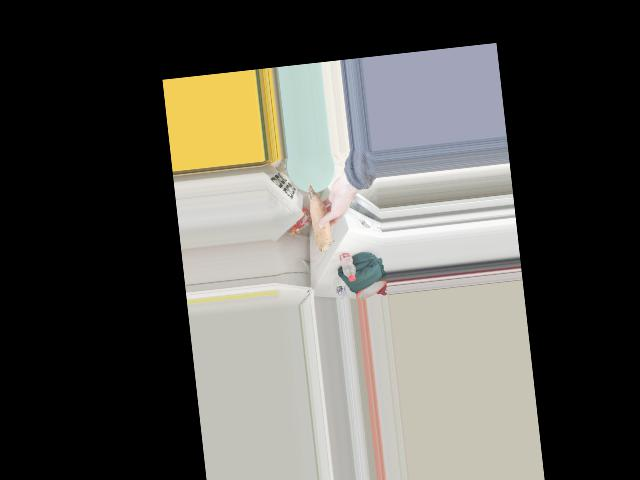sweet_potato: (302, 182, 338, 256)
